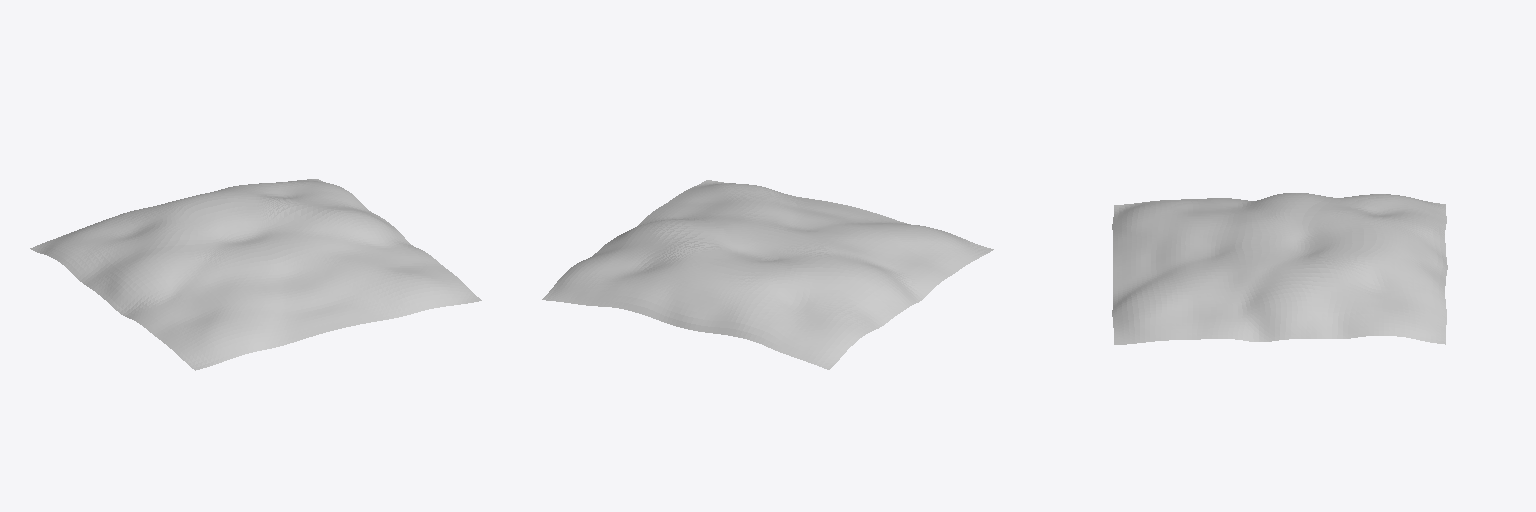
Rendered from ForestLand1.obj.
3 views of the same model, side by side, from view 1: azimuth 30°, elevation 25°; view 2: azimuth 150°, elevation 25°; view 3: azimuth 270°, elevation 25° (orthographic).
Parts seen in each view (by area): view 1: Plane; view 2: Plane; view 3: Plane.
Part boxes in pixels (bbox=[...]): Plane: bbox=[30, 179, 481, 370]; Plane: bbox=[542, 180, 993, 369]; Plane: bbox=[1112, 193, 1447, 344].
Size of the model in its own units: 17.4 by 2.19 by 17.34.